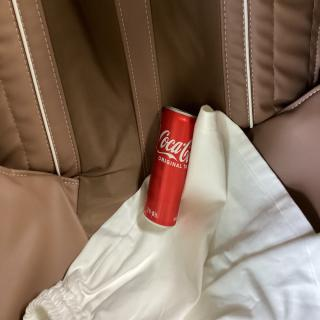cocacola: (137, 98, 204, 234)
